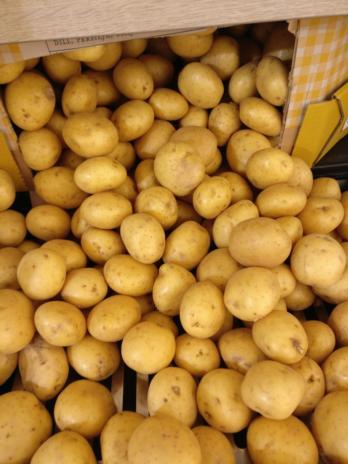Solid potato: (0, 228, 348, 464), (0, 58, 268, 222), (243, 164, 341, 227)
